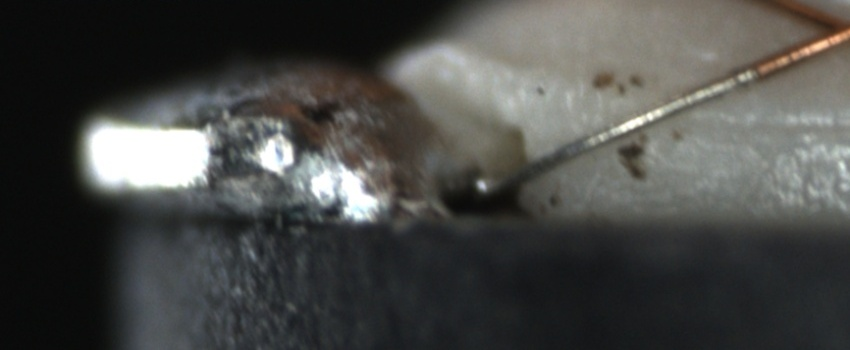CL: (793, 3, 850, 56)
DL: (684, 95, 850, 159)
TS: (470, 68, 754, 202)
